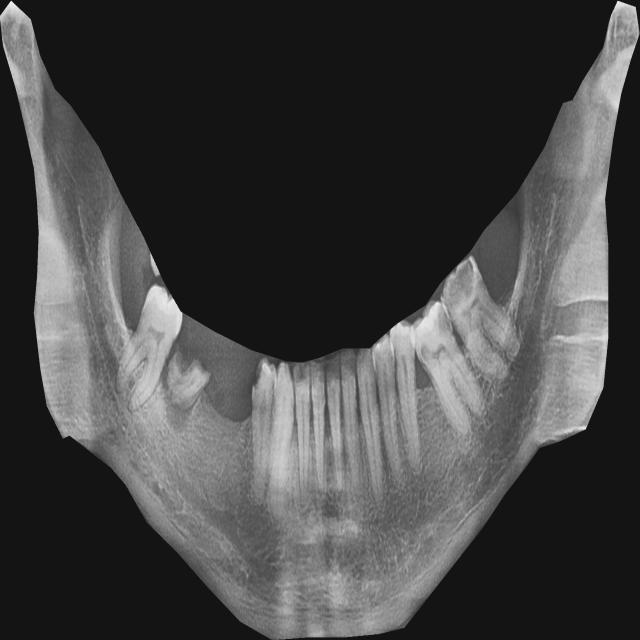mandibula: (0, 1, 640, 640)
